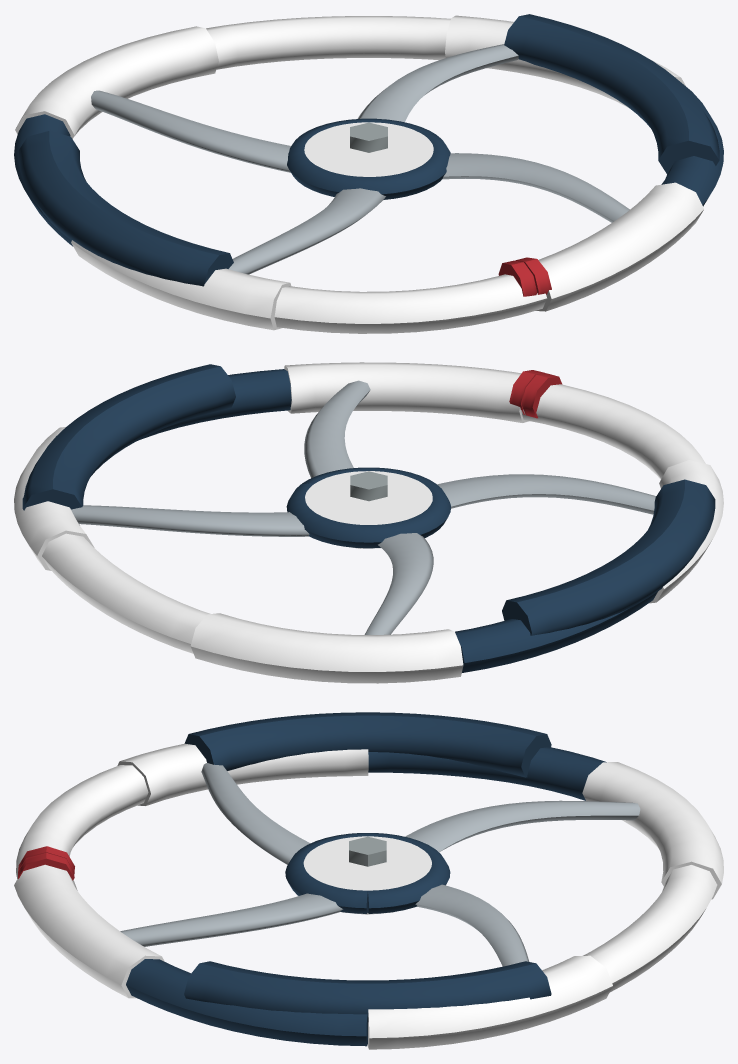
The model's file is Wheel_16_R_水銀・朱返し.glb.
3 views of the same model, one above another, from view 1: azimuth 30°, elevation 25°; view 2: azimuth 150°, elevation 25°; view 3: azimuth 270°, elevation 25° (orthographic).
Parts seen in each view (by area): view 1: Wheel_16_R; view 2: Wheel_16_R; view 3: Wheel_16_R.
Part boxes in pixels (x1,y1,x2,y2): Wheel_16_R: (14,14,723,333); Wheel_16_R: (14,362,723,683); Wheel_16_R: (14,712,723,1049).
Bounding box in the file's own units: 0.3288 × 0.0299 × 0.3267.
4 materials, 4 textured.
